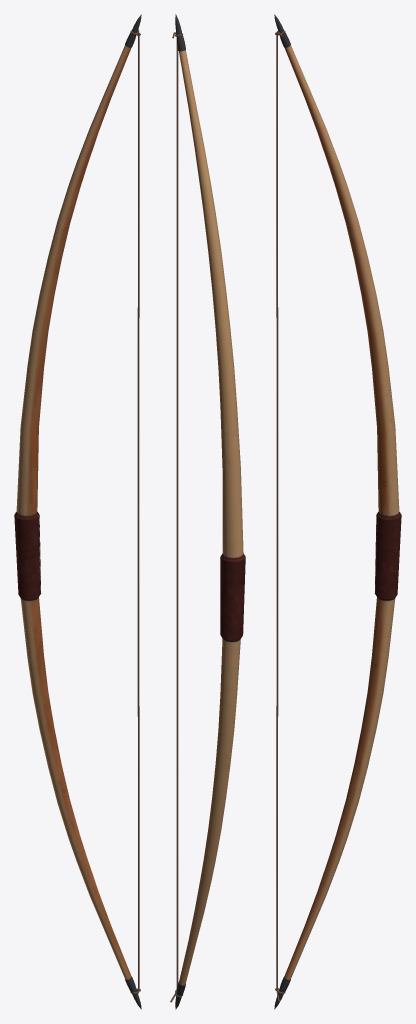
Rendered from longbow.glb.
3 renders of one model, left to right at view 1: azimuth 90°, elevation 25°; view 2: azimuth 210°, elevation 25°; view 3: azimuth 270°, elevation 25°, orthographic.
Visible parts, largest first — view 1: Object_41; view 2: Object_41; view 3: Object_41.
Boxes of the visible parts, left/top/right/bottom form: Object_41: left=14, top=14, right=141, bottom=1009; Object_41: left=170, top=14, right=245, bottom=1009; Object_41: left=274, top=14, right=401, bottom=1009.
Bounding box in the file's own units: 0.0438 × 1.91 × 0.2211.
Materials: 1 (1 with a texture image).
